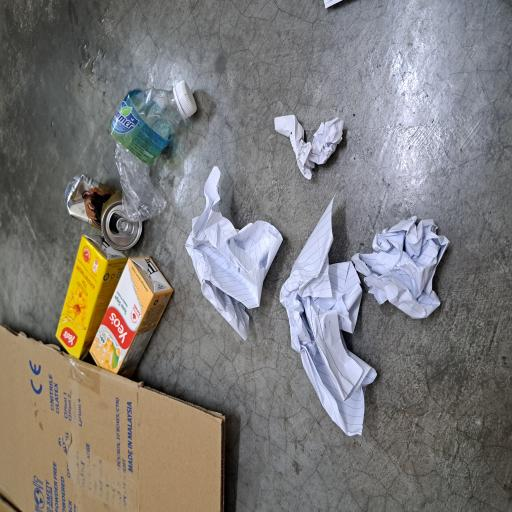can: (198, 82, 252, 190)
cardboard: (0, 0, 143, 301)
drink carton: (102, 118, 194, 230), (115, 70, 208, 168)
paper: (58, 368, 238, 498), (124, 244, 262, 378), (248, 366, 298, 460), (143, 467, 220, 512), (376, 426, 384, 477)
plastic bottle: (217, 141, 325, 264)
plastic bottle cap: (295, 228, 326, 266)
pop tab: (208, 154, 222, 178)
